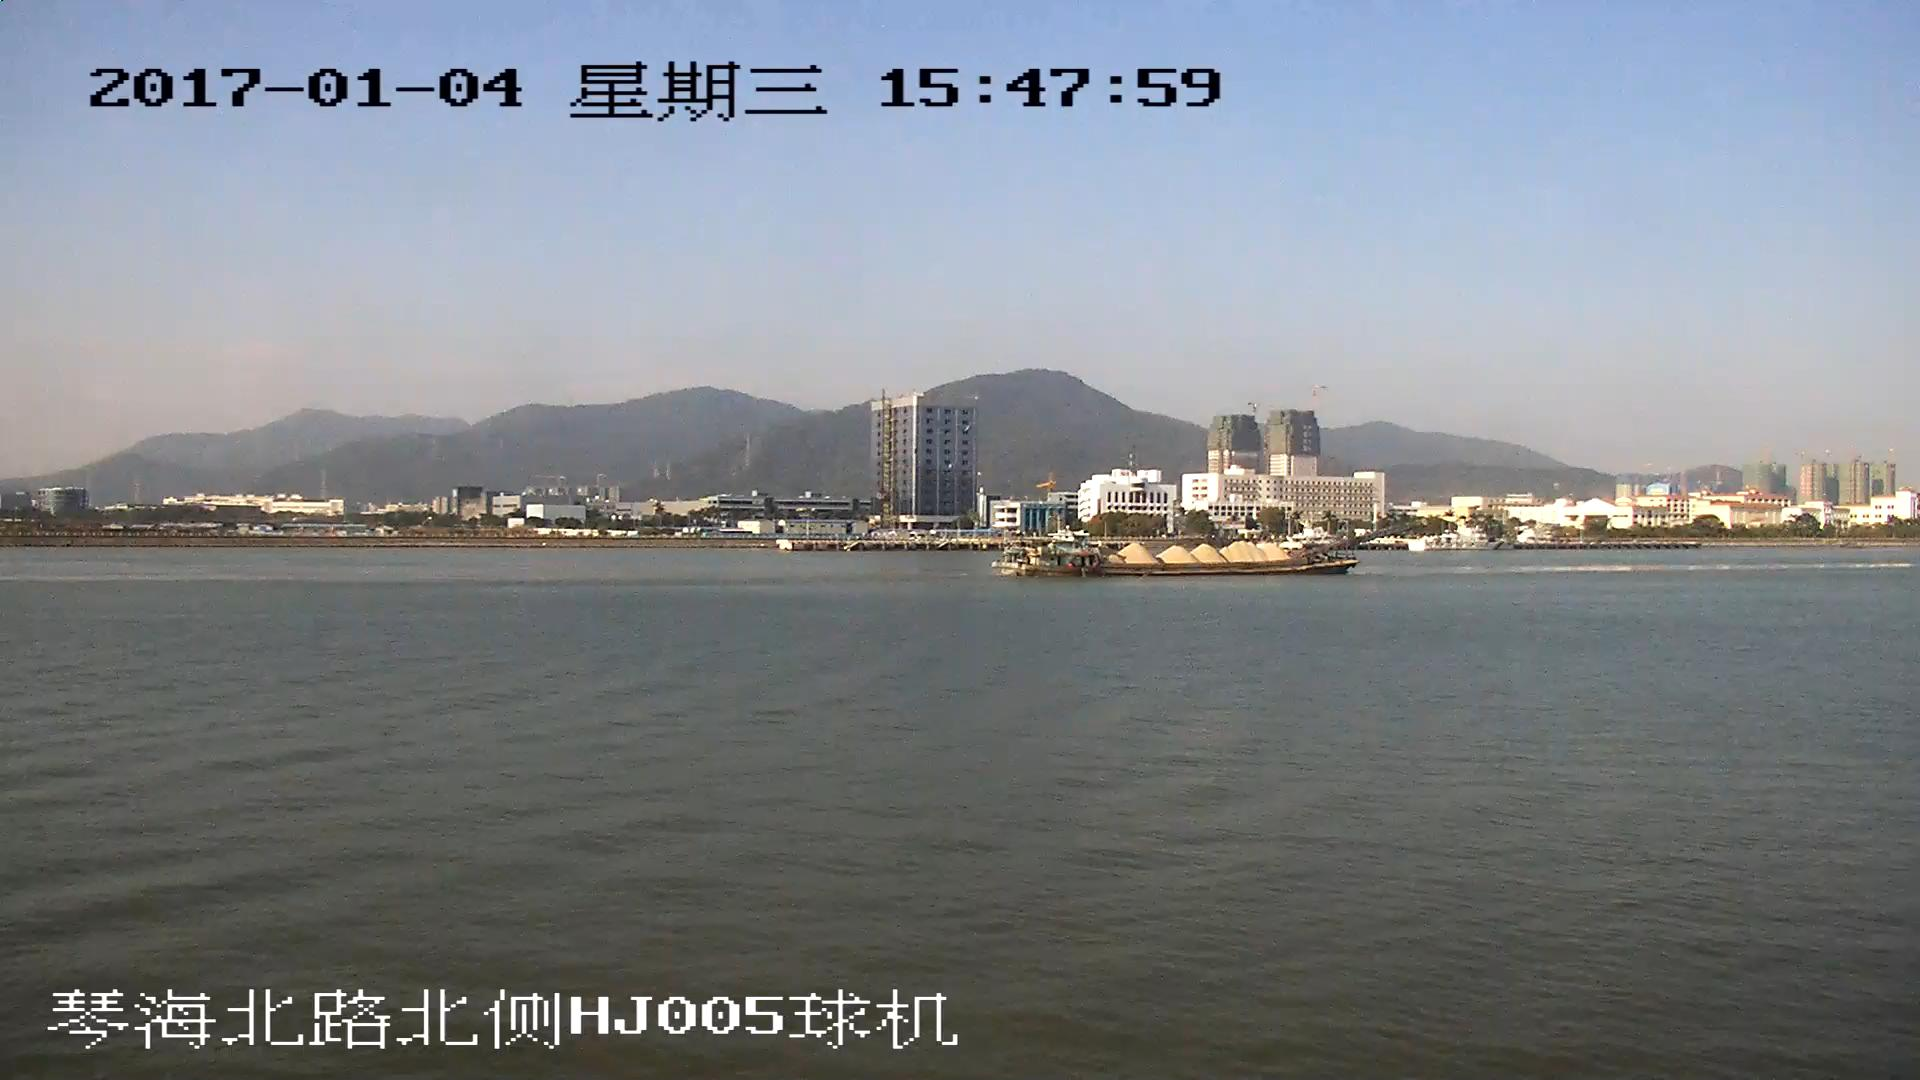ore carrier: (1001, 513, 1419, 579)
